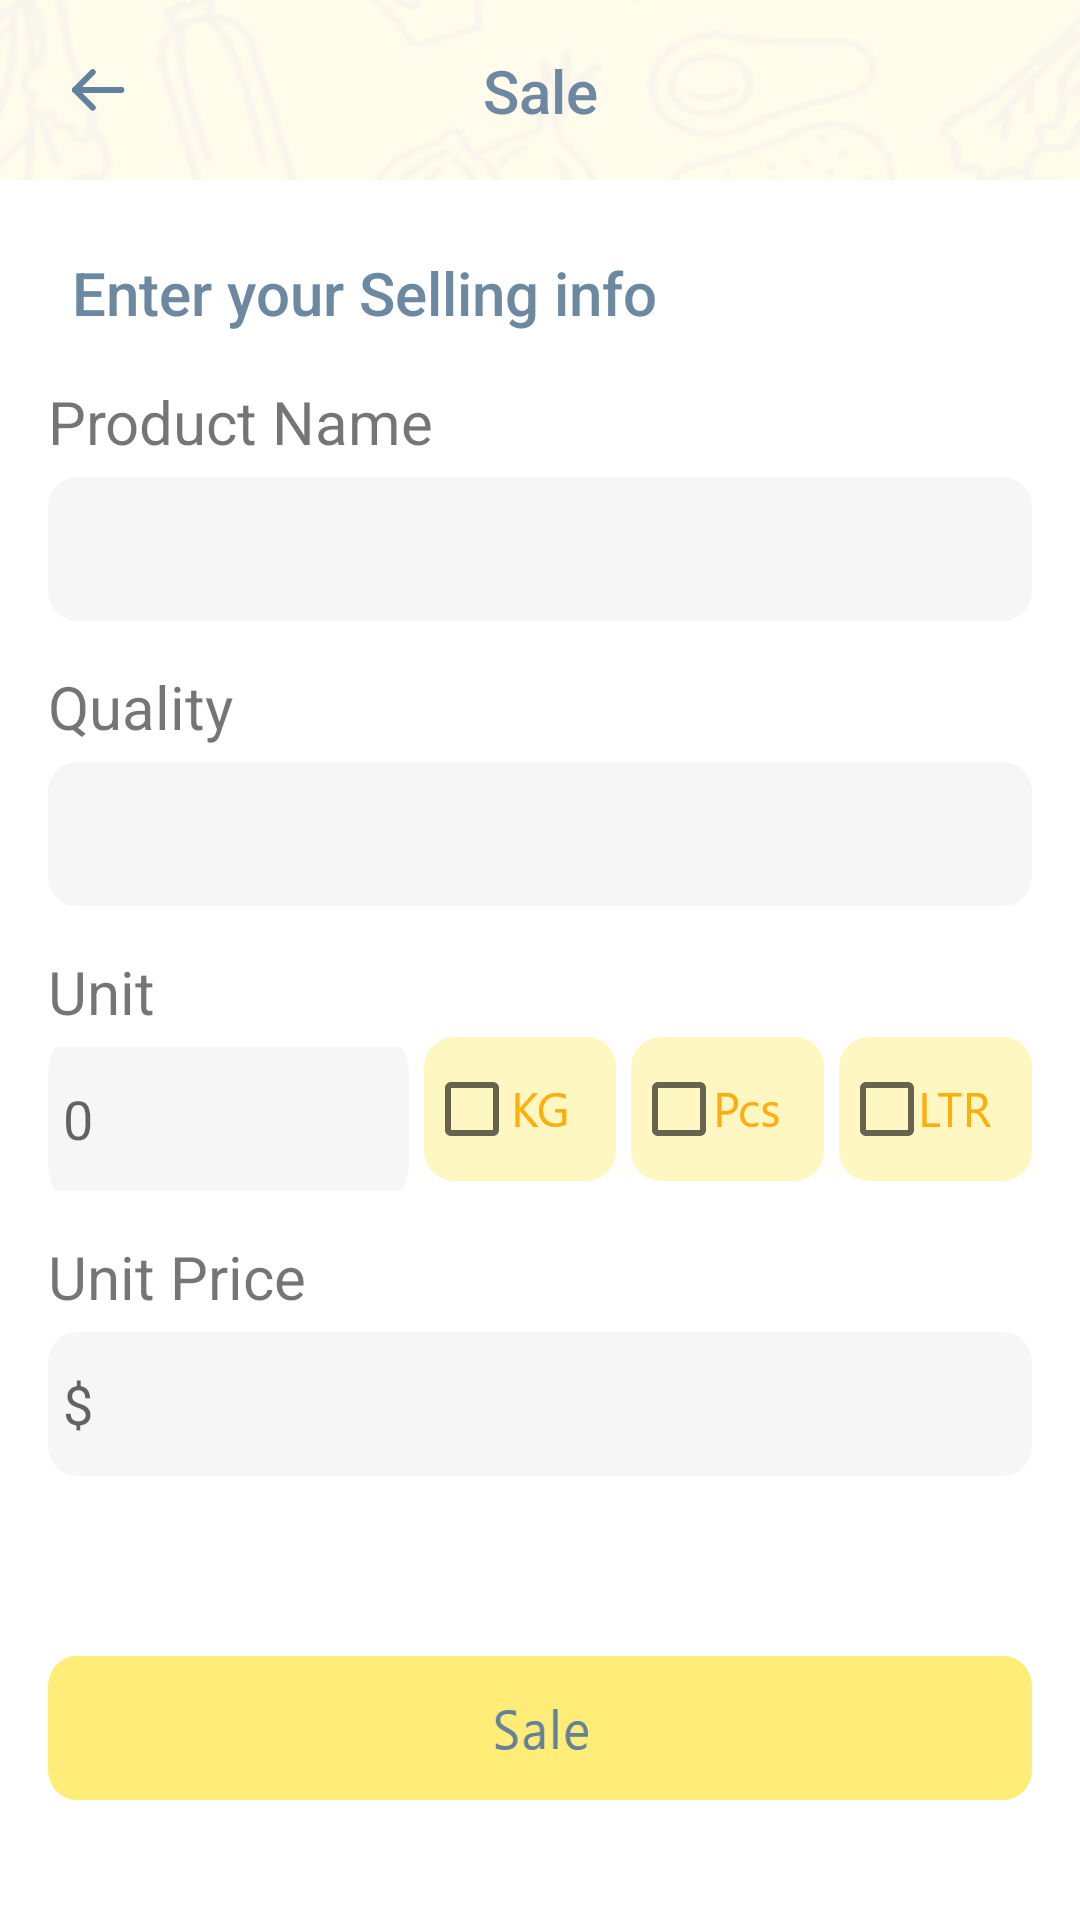

Screen size 1080 x 1920. Icon name, then its box in pixels as box(x1, y1, x2, y2):
back: box(72, 69, 125, 111)
